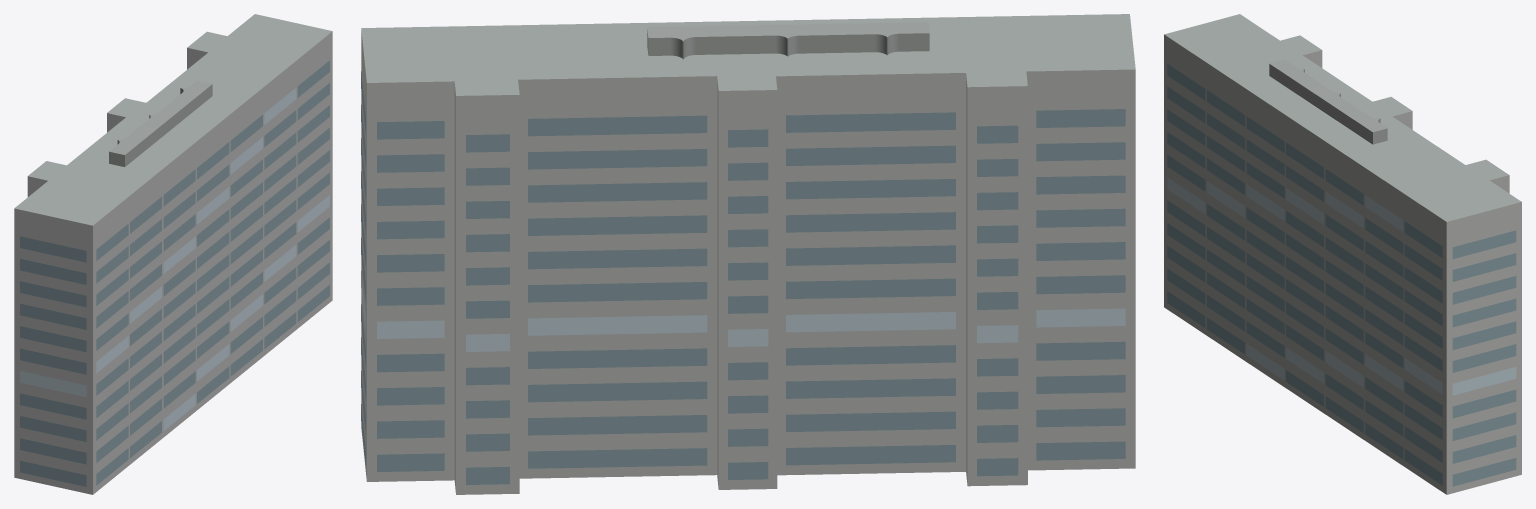
Rendered from fallback-godeok-ipark-extension-112.glb.
The picture shows the model from 3 angles, left to right: view 1: azimuth 30°, elevation 25°; view 2: azimuth 150°, elevation 25°; view 3: azimuth 270°, elevation 25°; orthographic projection. The views are drawn at different scales.
Parts seen in each view (by area): view 1: fallback-godeok-ipark-extension-112; view 2: fallback-godeok-ipark-extension-112; view 3: fallback-godeok-ipark-extension-112.
Boxes of the visible parts, x1,y1,x2,y2 form: fallback-godeok-ipark-extension-112: (14, 14, 332, 494); fallback-godeok-ipark-extension-112: (361, 14, 1135, 494); fallback-godeok-ipark-extension-112: (1164, 14, 1521, 494).
Size of the model in its own units: 59.83 by 38.25 by 43.48.
